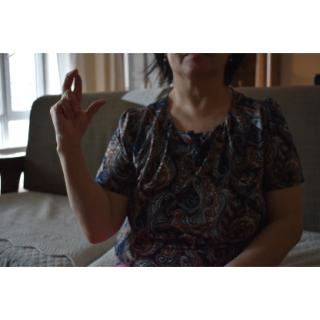DHELL: (49, 66, 112, 156)
